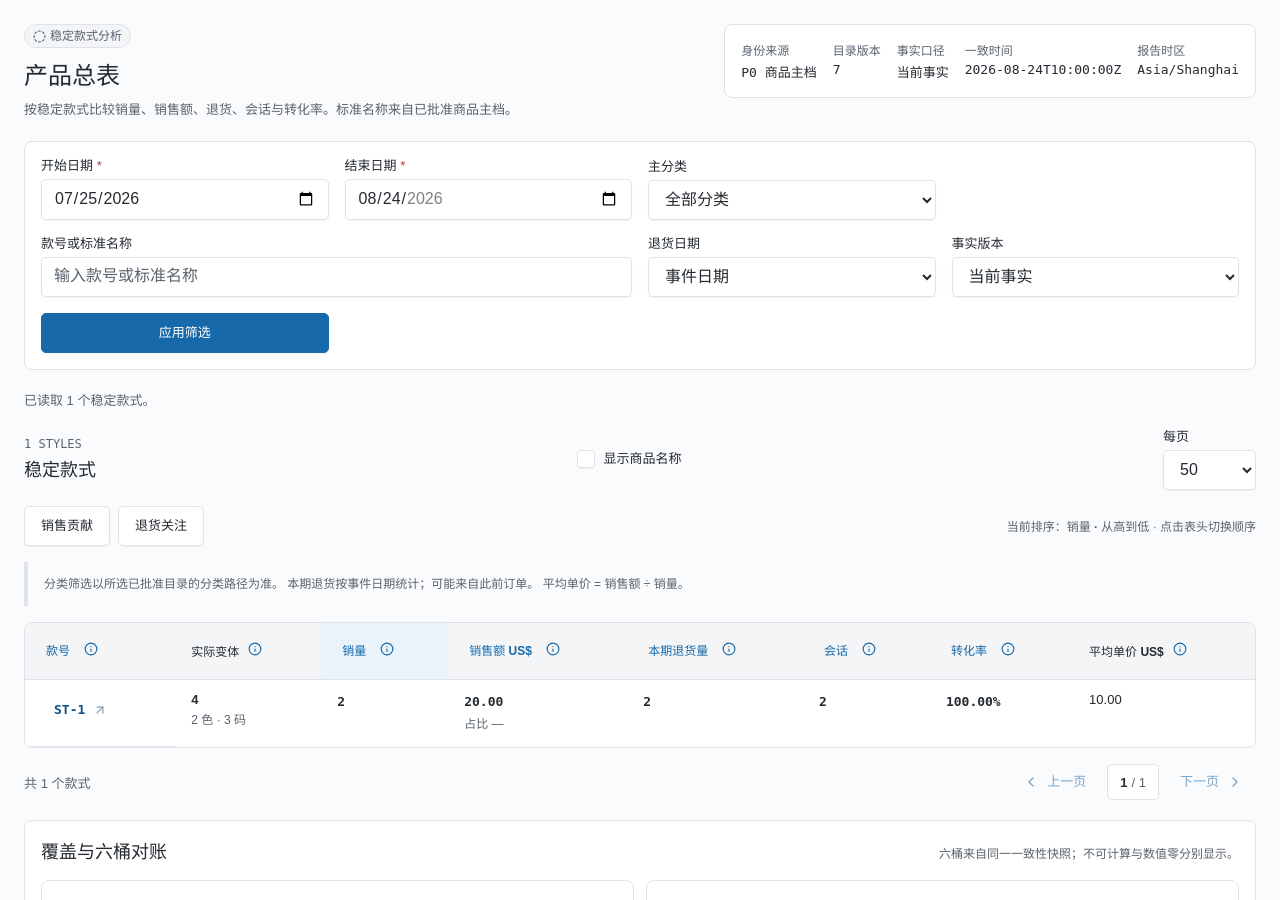
Scenario: ProductLedgerPage › removes stale rows if sorting fails instead of presenting them as current
Expected: the button with aria-label "查看款号 ST-1 商品信息" is shown, [41,692,159,728]
Click the button "退货关注". click: (161, 526)
box: [118,506,204,546]
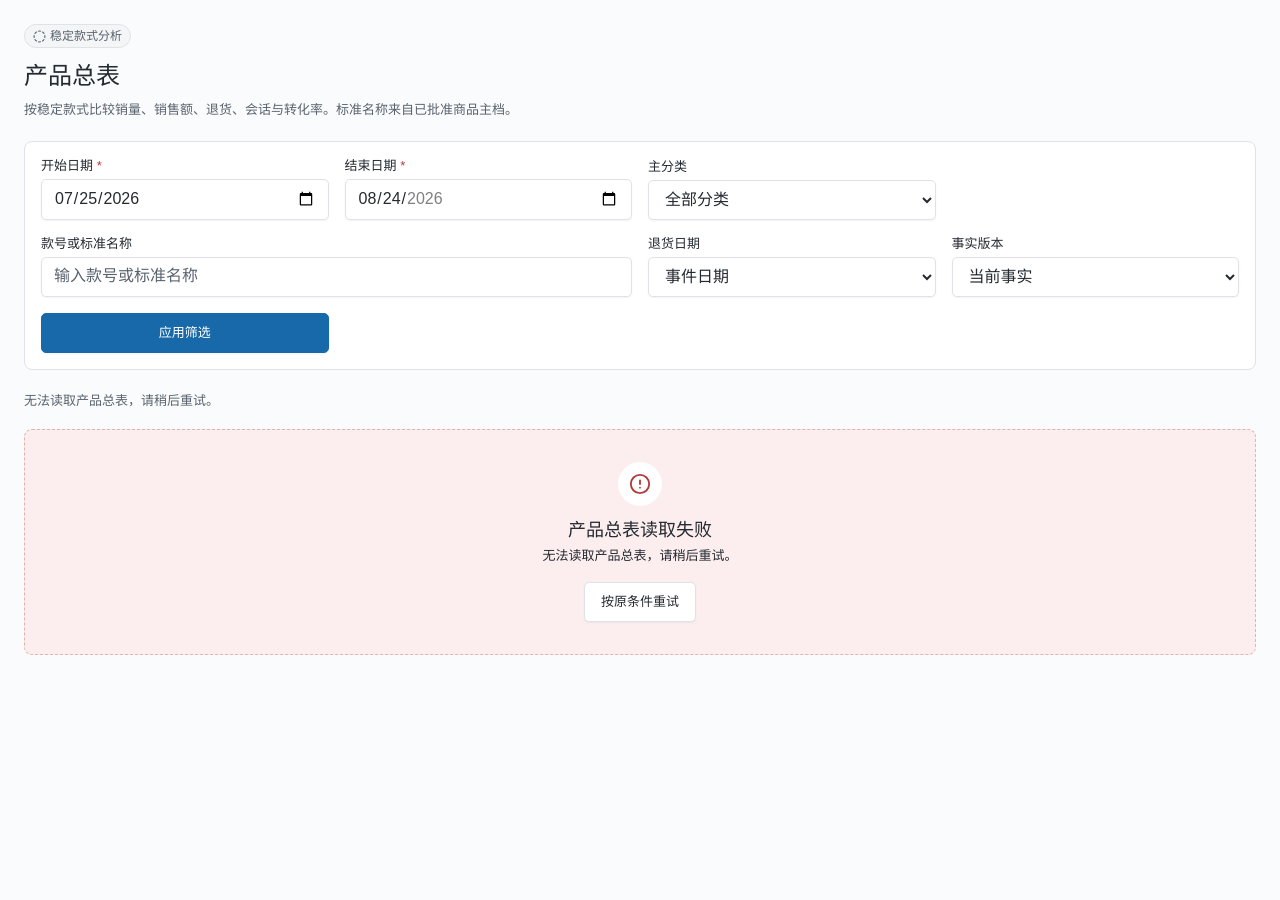
Expected: the heading "产品总表读取失败" is shown, [568,520,712,540]
